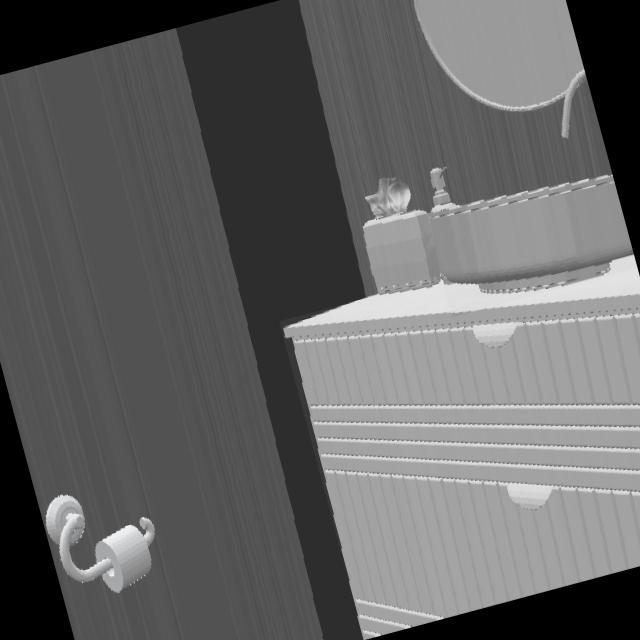cabinet: (284, 255, 640, 635)
washbasin: (429, 174, 634, 291)
